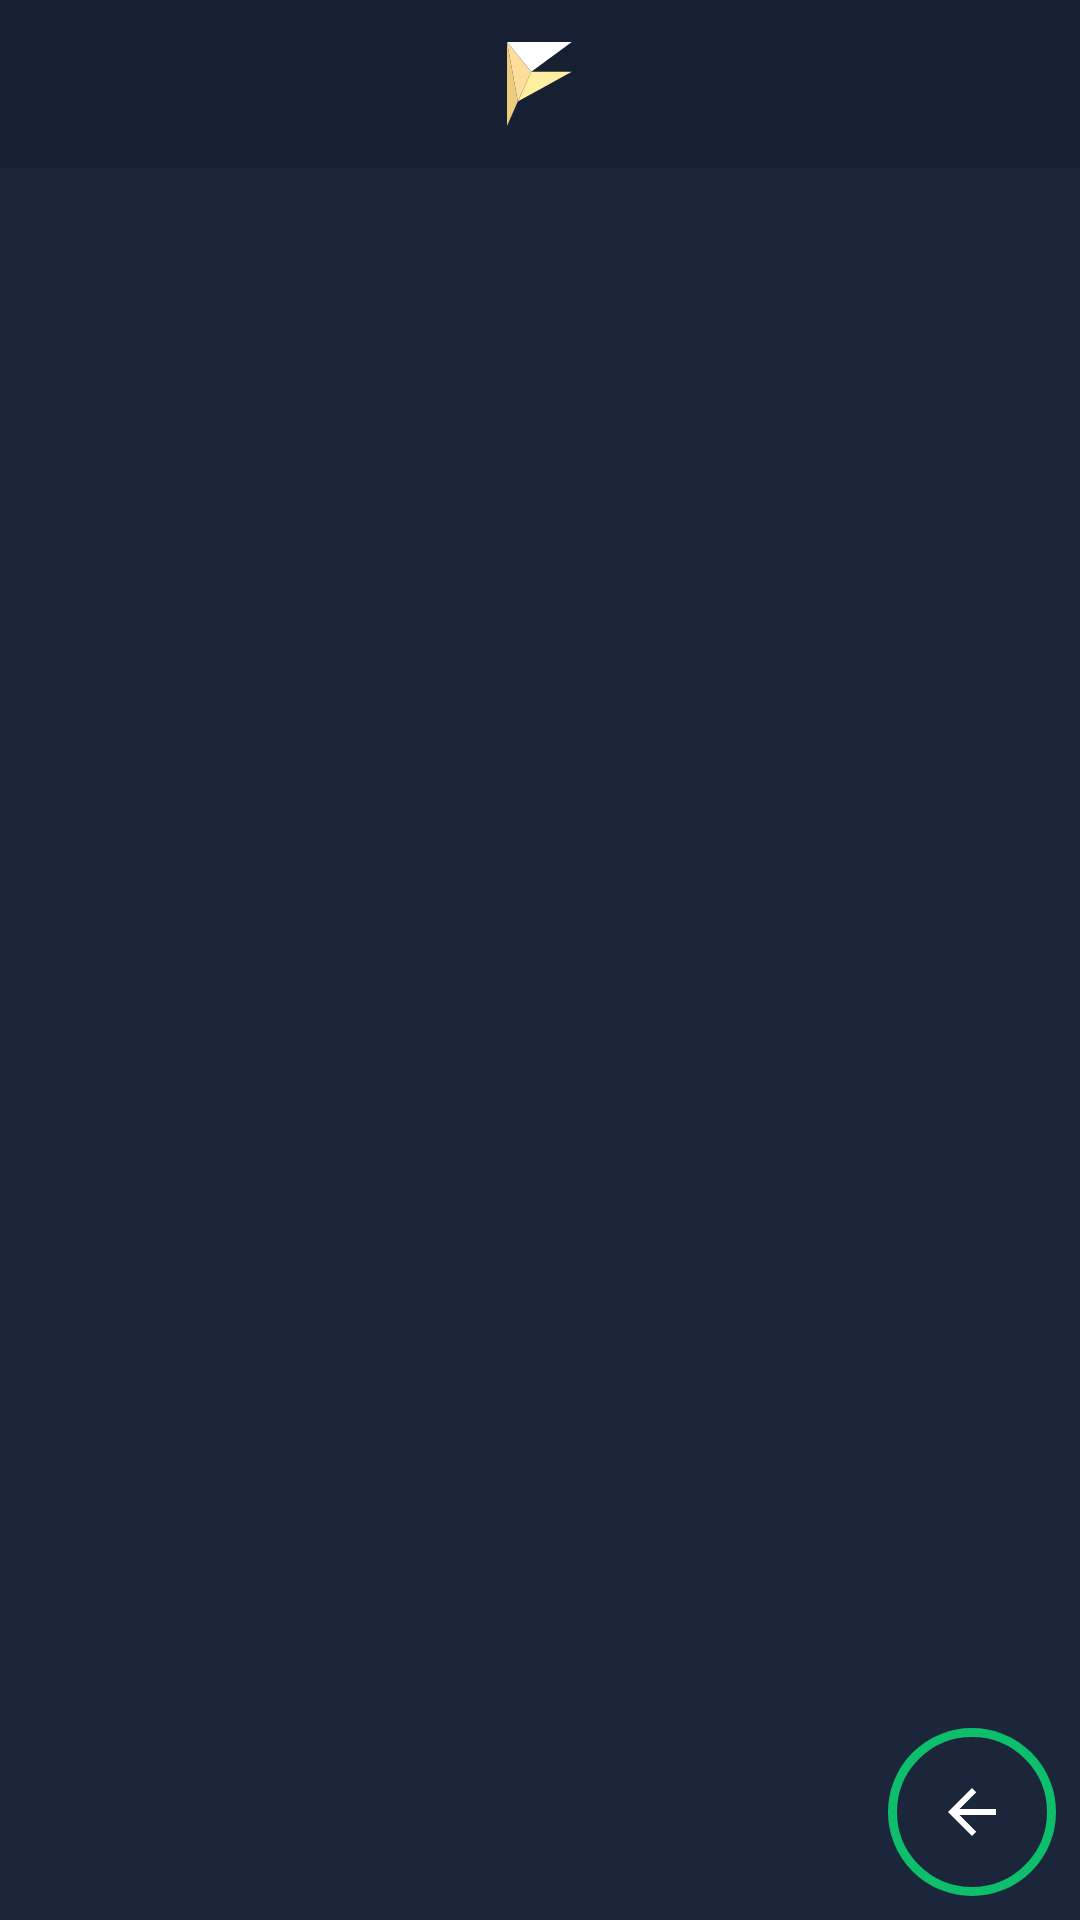

Icon bounding boxes for this 1080 × 1920 phone screenshot, format (x1, y1, x2, y2):
arrow back: (888, 1728, 1056, 1896)
